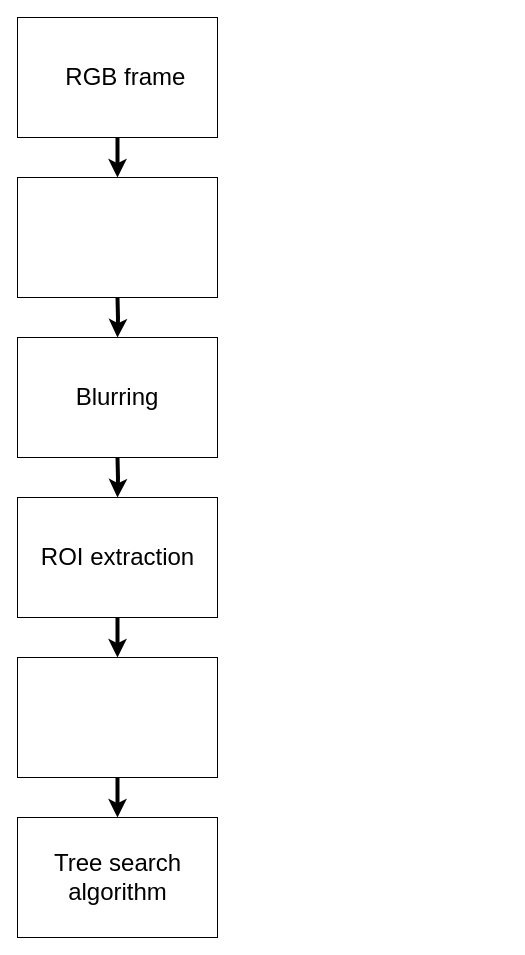
The diagram is 525 pixels wide and 955 high, and some of its shapes have lost their labels. The shapes that lost their labels are listed below. From the top down, each one's centre as x and y in pixels, then its label:
At point (117, 237): "Conversion to grayscale".
At point (117, 717): "Finding root pixel".
